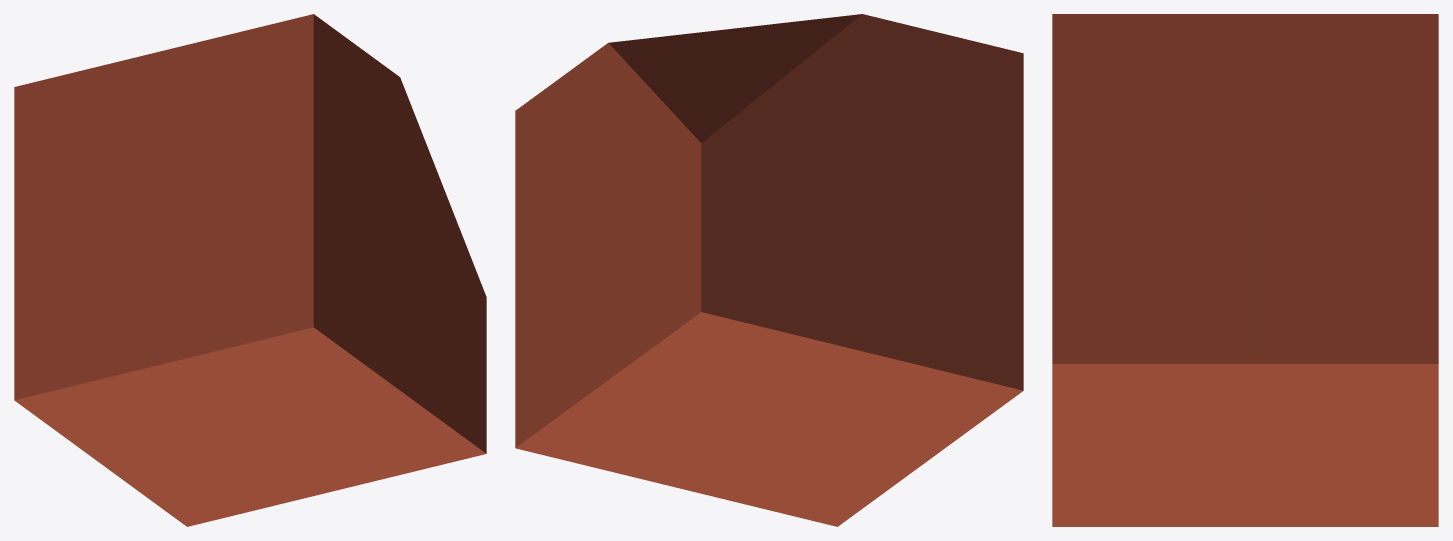
The model's file is r6c6_border_brown.gltf.
3 renders of one model, left to right at view 1: azimuth 30°, elevation 25°; view 2: azimuth 150°, elevation 25°; view 3: azimuth 270°, elevation 25°, orthographic. The views are drawn at different scales.
Parts seen in each view (by area): view 1: r6c6_border_brown; view 2: r6c6_border_brown; view 3: r6c6_border_brown.
Part boxes in pixels (x1,y1,x2,y2): r6c6_border_brown: (14,14,486,526); r6c6_border_brown: (515,14,1023,526); r6c6_border_brown: (1052,14,1438,526).
Size of the model in its own units: 2.1 by 2.1 by 2.1.
1 material, 1 textured.
